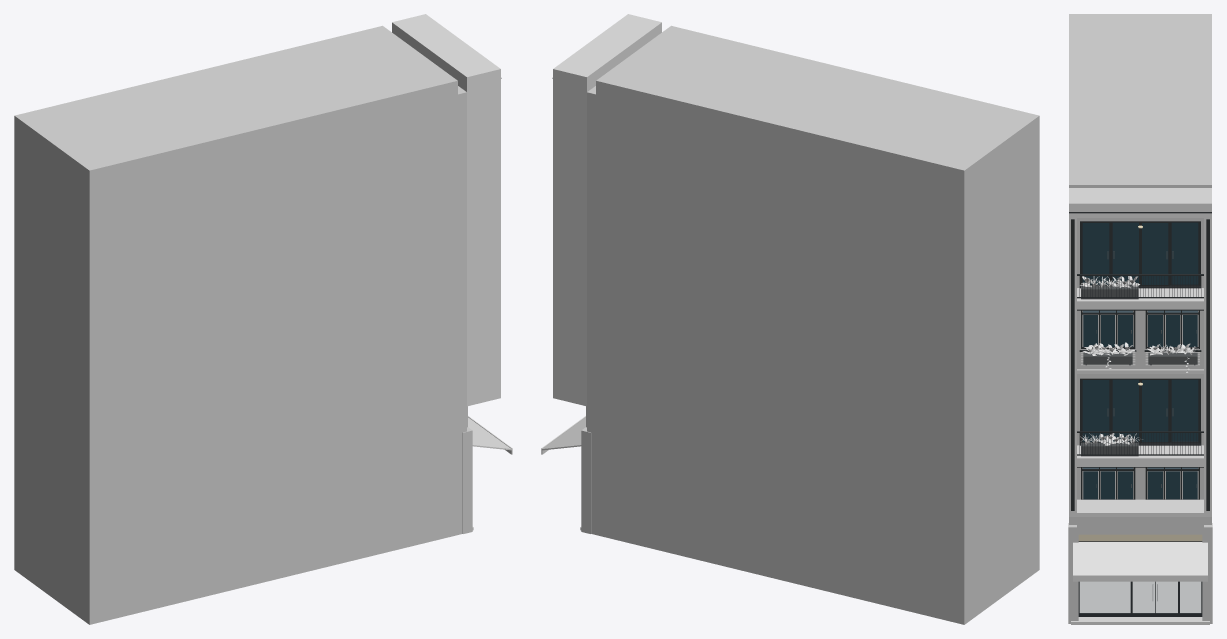
Rendered from OW_Mau_NhaPho_5_5_3_B.fbx.
3 views of the same model, side by side, from view 1: azimuth 30°, elevation 25°; view 2: azimuth 150°, elevation 25°; view 3: azimuth 270°, elevation 25° (orthographic). The views are drawn at different scales.
Parts seen in each view (by area): view 1: OW_NhaPho_9023; view 2: OW_NhaPho_9023; view 3: OW_NhaPho_9023, OW_MatTienKinh.
Part boxes in pixels (left/top/right/bottom): OW_NhaPho_9023: left=14, top=14, right=512, bottom=624; OW_NhaPho_9023: left=541, top=14, right=1039, bottom=624; OW_NhaPho_9023: left=1068, top=14, right=1212, bottom=624; OW_MatTienKinh: left=1078, top=534, right=1202, bottom=616.
Size of the model in its own units: 17.77 by 18.2 by 5.5.
